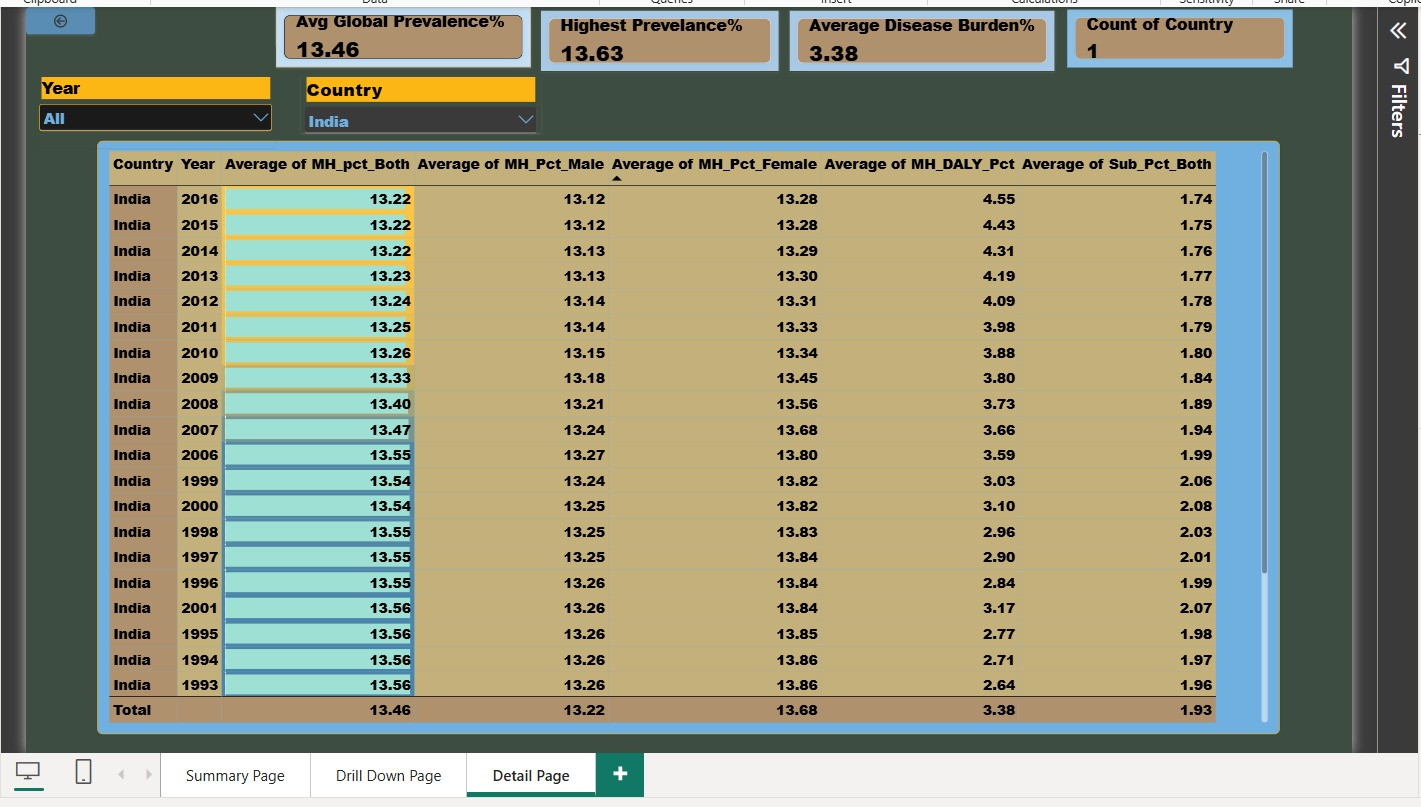

What the dashboard file says about the page in this screenshot:
{"tool":"powerbi","page":{"name":"Detail Page","canvas":[1920,1080],"ordinal":2},"visuals":[{"type":"tableEx","fields":{"Values":["mental_health_disorder_prevalen.Country","mental_health_disorder_prevalen.Year","Avg(mental_health_disorder_prevalen.MH_pct_Both)","Avg(mental_health_disorder_prevalen.MH_Pct_Male)","Avg(mental_health_disorder_prevalen.MH_Pct_Female)","Avg(mental_health_disorder_prevalen.MH_DALY_Pct)","Avg(mental_health_disorder_prevalen.Sub_Pct_Both)"]},"box":[103.2,193.6,1711.9,859.6],"z":0},{"type":"actionButton","box":[0,0,100,40],"z":1},{"type":"slicer","fields":{"Values":["mental_health_disorder_prevalen.Year"]},"box":[14.5,101.3,346.9,102],"z":2},{"type":"slicer","fields":{"Values":["mental_health_disorder_prevalen.Country"]},"box":[398.1,101.3,346.9,81.6],"z":3},{"type":"cardVisual","fields":{"Data":["Count(mental_health_disorder_prevalen.Country)"]},"box":[1508.2,4.1,326.5,83.7],"z":4},{"type":"cardVisual","fields":{"Data":["Avg(mental_health_disorder_prevalen.MH_pct_Both)"]},"box":[361.9,0,369.4,87.8],"z":5},{"type":"cardVisual","fields":{"Data":["Max(mental_health_disorder_prevalen.MH_pct_Both)"]},"box":[745.6,5.4,344.9,87.8],"z":6},{"type":"cardVisual","fields":{"Data":["Avg(mental_health_disorder_prevalen.MH_DALY_Pct)"]},"box":[1105.7,5.4,383.7,87.8],"z":7}]}

Visuals, with their boxes on the page's 1920x1080 design canvas (x1, y1, x2, y2). These are canvas units, not pixel positions in the 1421x807 screenshot, which may show the page scaled, cropped or inside an application window:
tableEx - mental_health_disorder_prevalen.Country x mental_health_disorder_prevalen.Year: (x1=103, y1=194, x2=1815, y2=1053)
actionButton: (x1=0, y1=0, x2=100, y2=40)
slicer - mental_health_disorder_prevalen.Year: (x1=14, y1=101, x2=361, y2=203)
slicer - mental_health_disorder_prevalen.Country: (x1=398, y1=101, x2=745, y2=183)
cardVisual - Count(mental_health_disorder_prevalen.Country): (x1=1508, y1=4, x2=1835, y2=88)
cardVisual - Avg(mental_health_disorder_prevalen.MH_pct_Both): (x1=362, y1=0, x2=731, y2=88)
cardVisual - Max(mental_health_disorder_prevalen.MH_pct_Both): (x1=746, y1=5, x2=1090, y2=93)
cardVisual - Avg(mental_health_disorder_prevalen.MH_DALY_Pct): (x1=1106, y1=5, x2=1489, y2=93)
